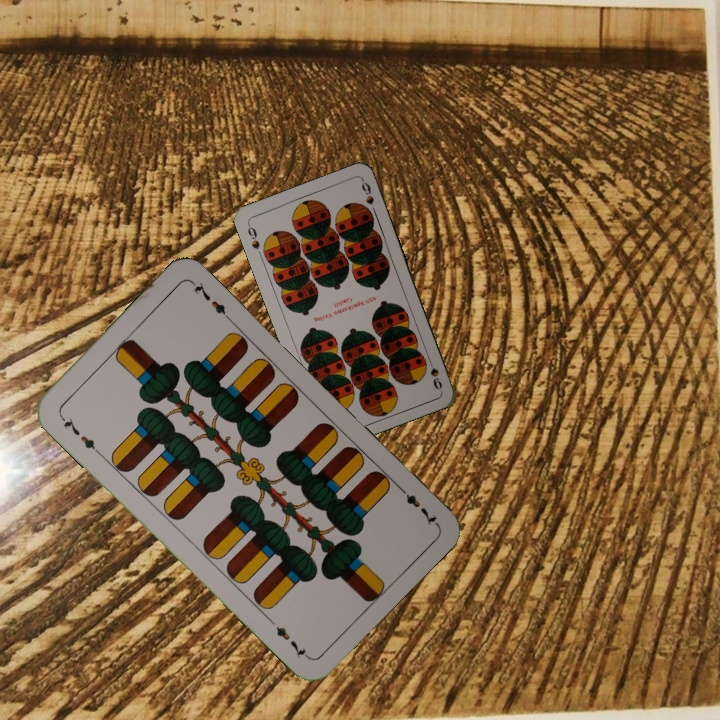E7: (393, 481, 440, 528), (56, 411, 103, 457)
S9: (424, 353, 445, 393), (244, 220, 262, 252)
